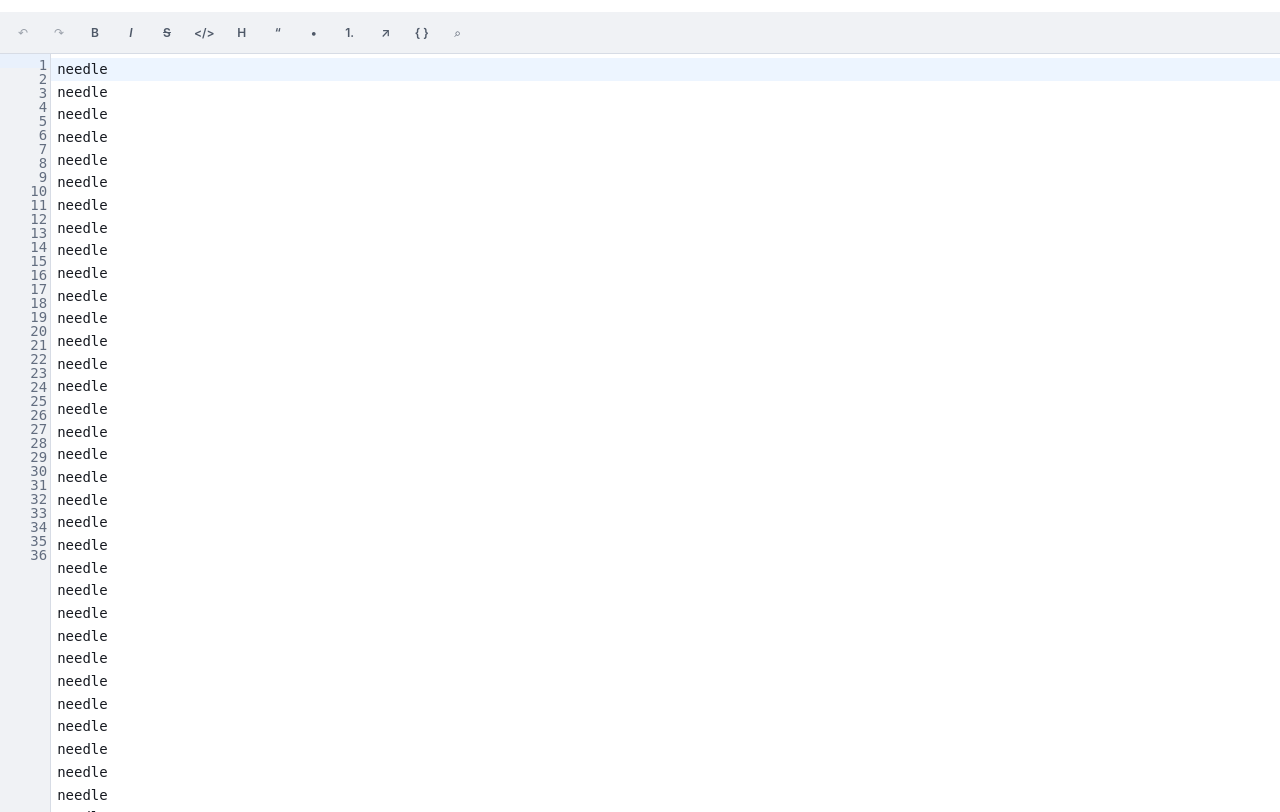
Test case: CodeEditor accessibility › reports capped match counts honestly for very repetitive documents
Click the button named "Find in document": x=458, y=32 [441,16,475,50]
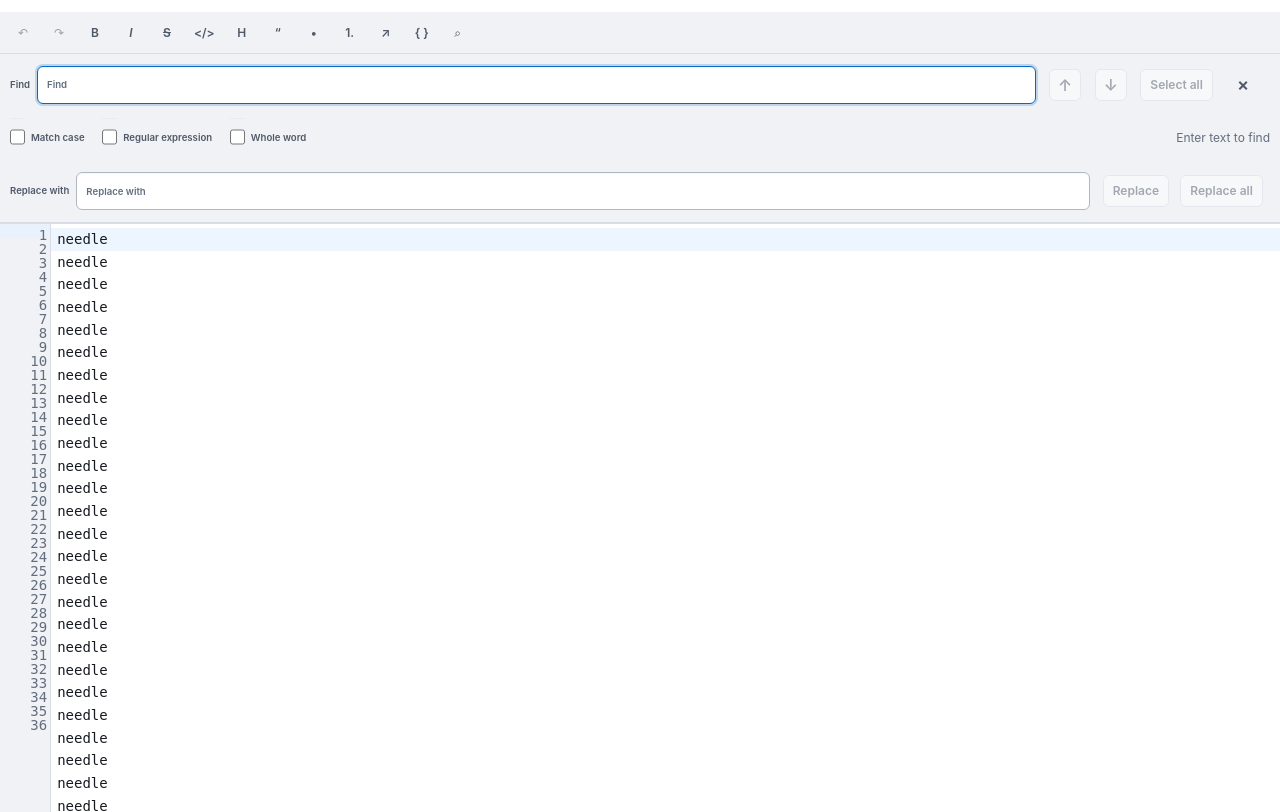
In the search field labelled "Find": x=537, y=85 [37,66,1036,104], type "needle"
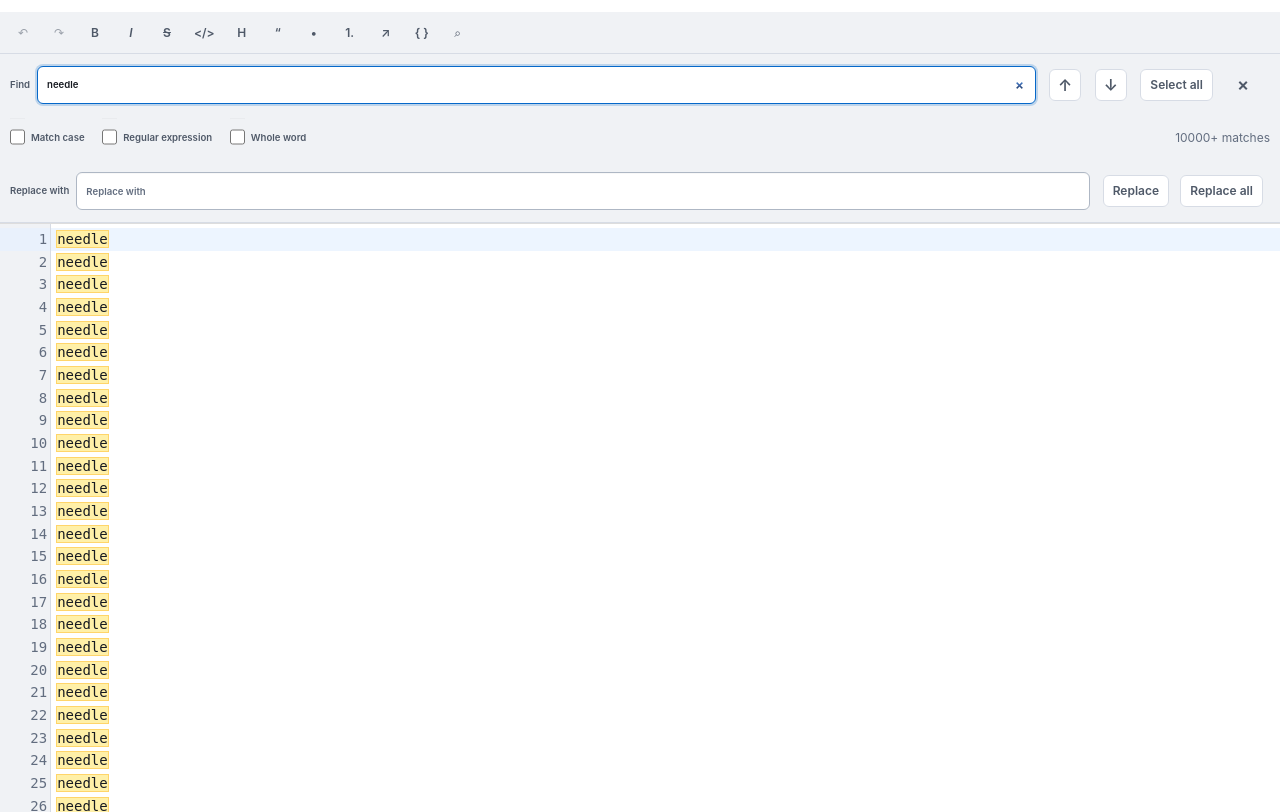
Expected: the message reads "10000+ matches", [1175,130,1270,145]
